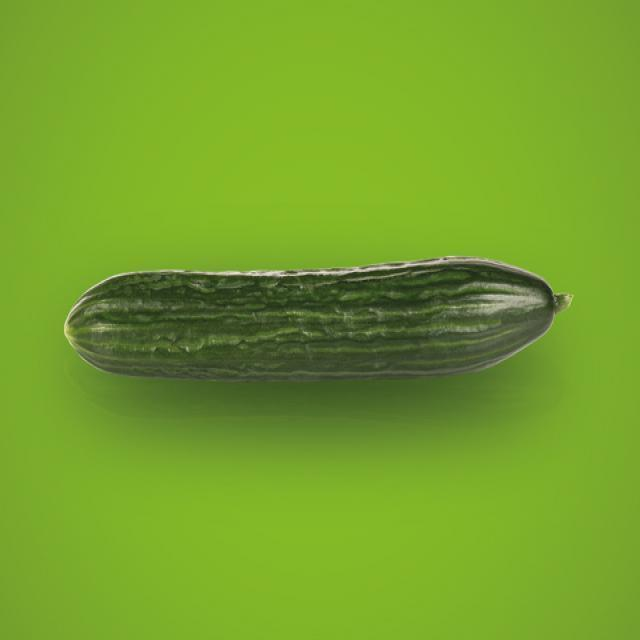cucumber: (61, 253, 576, 388)
